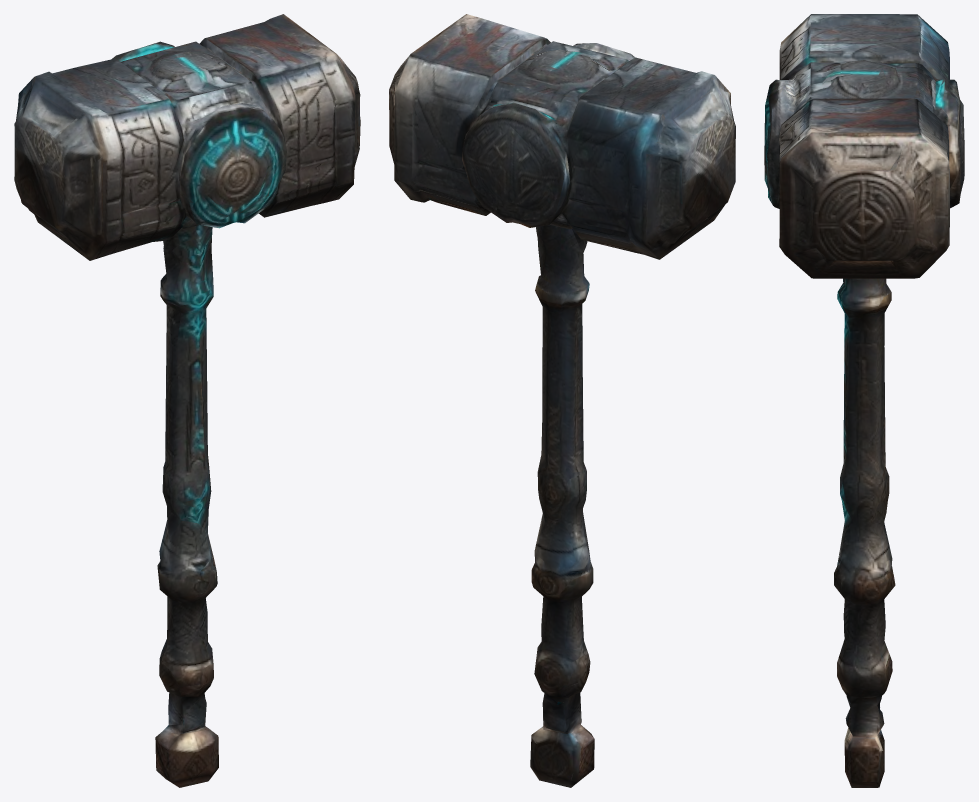
The model's file is 1501_hammer.glb.
The picture shows the model from 3 angles, left to right: view 1: azimuth 30°, elevation 25°; view 2: azimuth 150°, elevation 25°; view 3: azimuth 270°, elevation 25°; orthographic projection.
Visible parts, largest first — view 1: Model; view 2: Model; view 3: Model.
Part boxes in pixels (box(x1,y1,x2,y2)): Model: box(14, 14, 360, 787); Model: box(389, 14, 735, 787); Model: box(764, 14, 964, 787).
Size of the model in its own units: 0.4337 by 1 by 0.2559.
Materials: 1 (1 with a texture image).
